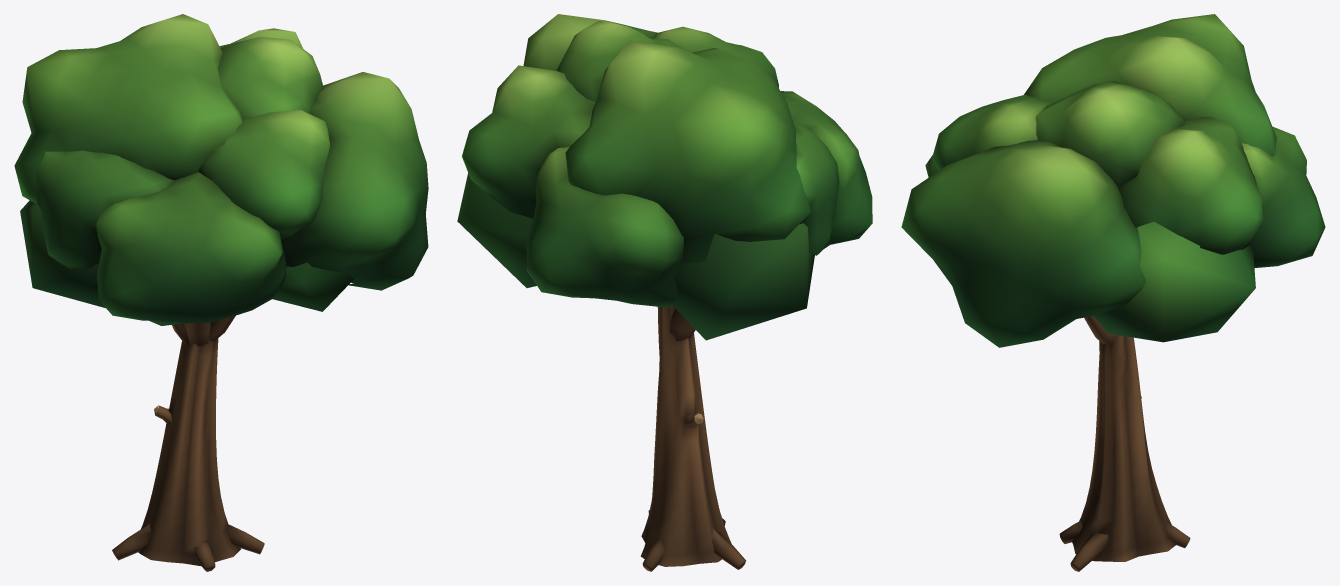
The model's file is tree-standing-a-v1.glb.
3 renders of one model, left to right at view 1: azimuth 30°, elevation 25°; view 2: azimuth 150°, elevation 25°; view 3: azimuth 270°, elevation 25°, orthographic.
Parts seen in each view (by area): view 1: 1_leaves, 0_trunk; view 2: 1_leaves, 0_trunk; view 3: 1_leaves, 0_trunk.
Boxes of the visible parts, box(x1,y1,x2,y2) form: 1_leaves: box(14, 14, 428, 325); 0_trunk: box(112, 315, 264, 571); 1_leaves: box(457, 14, 872, 340); 0_trunk: box(640, 305, 746, 571); 1_leaves: box(901, 14, 1325, 347); 0_trunk: box(1059, 316, 1190, 571).
Size of the model in its own units: 4.47 by 6.54 by 4.93.
